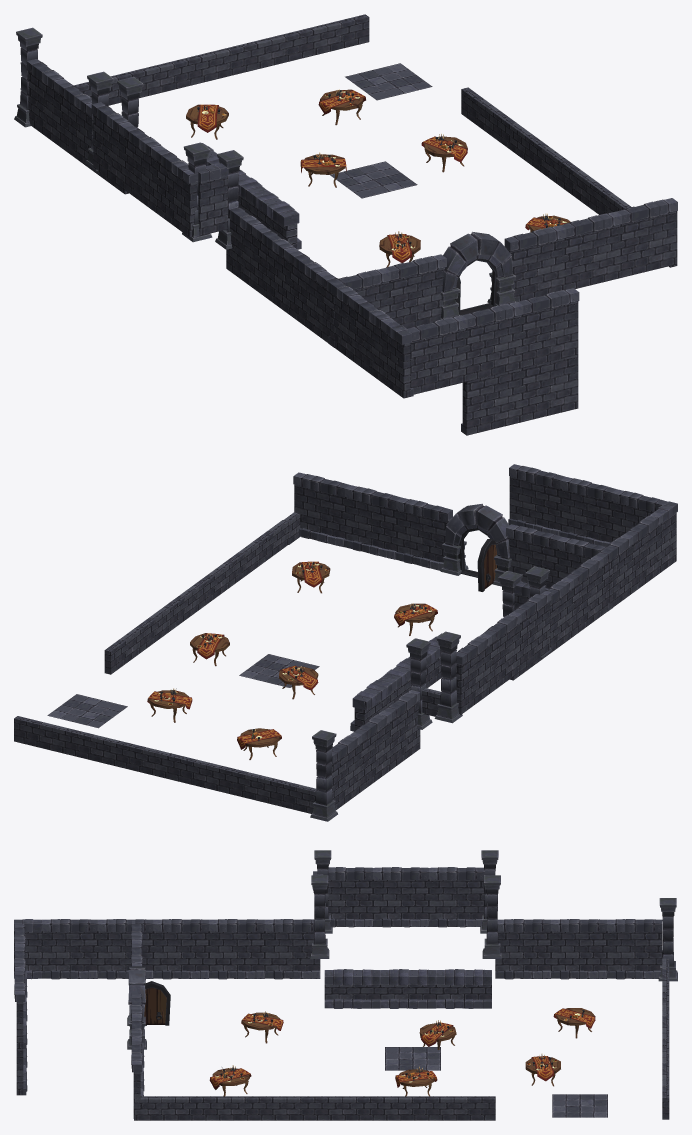
The model's file is BanquetRoom1.gltf.
The picture shows the model from 3 angles, top to bottom: view 1: azimuth 30°, elevation 25°; view 2: azimuth 150°, elevation 25°; view 3: azimuth 270°, elevation 25°; orthographic projection. The views are drawn at different scales.
Parts seen in each view (by area): view 1: MOD_Floor_01_O_straight_med (24); view 2: MOD_Floor_01_O_straight_med (24); view 3: MOD_Floor_01_O_straight_med (24).
Part boxes in pixels (x1,y1,x2,y2): MOD_Floor_01_O_straight_med (24): (14,14,677,435); MOD_Floor_01_O_straight_med (24): (14,464,677,821); MOD_Floor_01_O_straight_med (24): (14,850,677,1120).
Size of the model in its own units: 27.46 by 12.33 by 47.67.
Materials: 9 (9 with a texture image).
